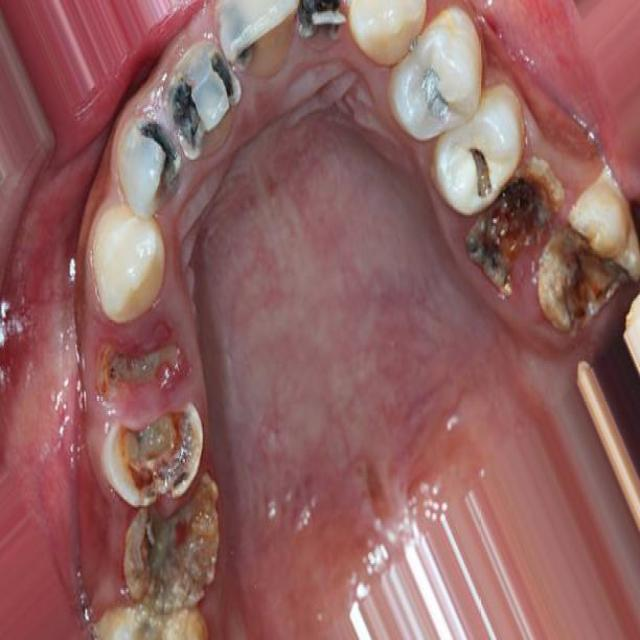caries: (104, 480, 228, 614), (459, 137, 562, 297), (536, 201, 633, 334), (98, 403, 209, 505), (163, 44, 244, 161), (128, 114, 189, 210), (100, 334, 188, 396), (410, 58, 460, 134), (289, 0, 349, 56), (221, 10, 263, 74)
